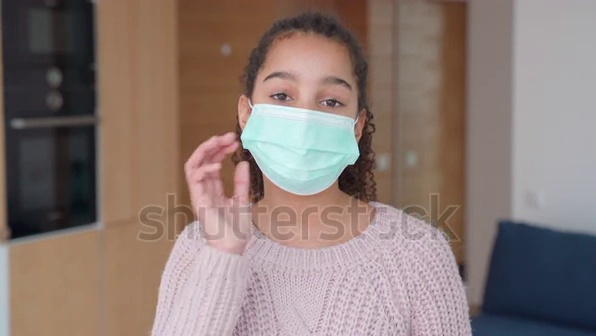Mask: (236, 110, 369, 195)
